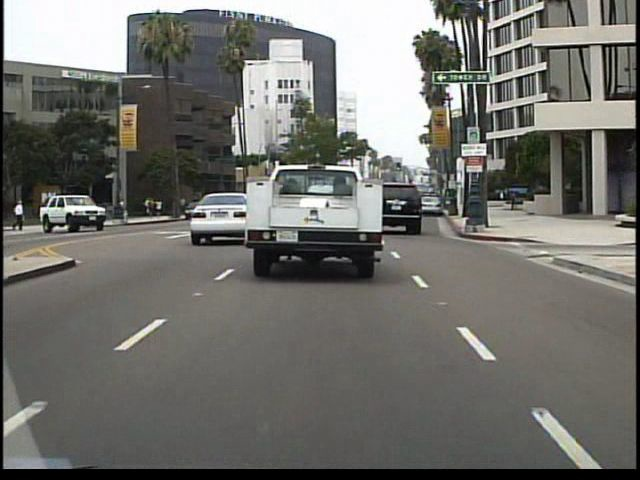person: (72, 191, 88, 228), (66, 197, 82, 231), (113, 191, 129, 222), (16, 193, 27, 233)
